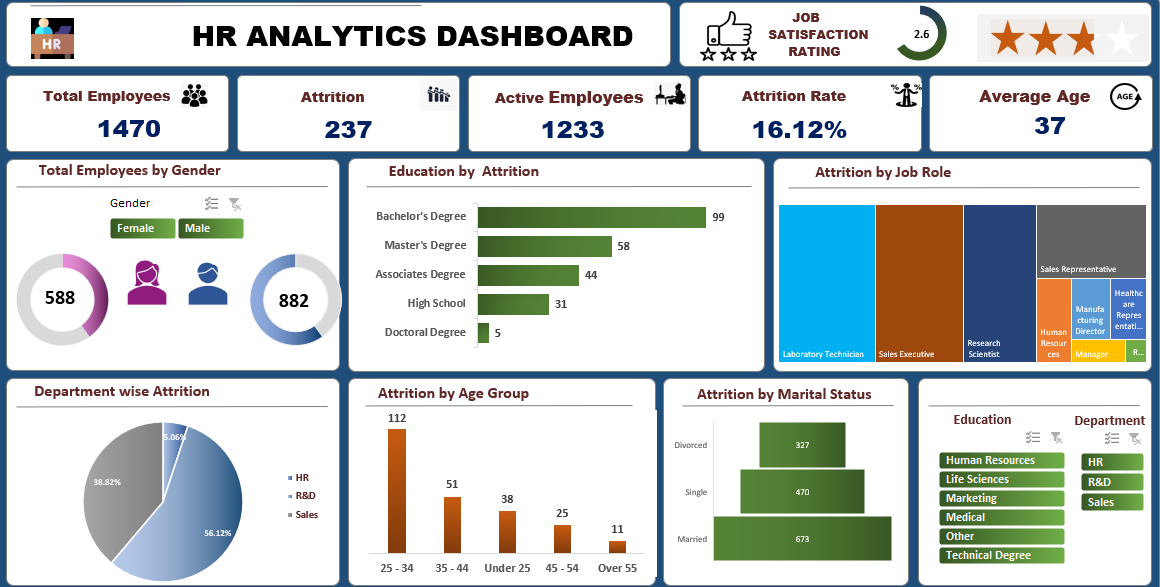

Layout of this report page (visuals, bound fields, positions):
{"tool":"powerbi","page":{"name":"Page 1","canvas":[1280,720],"ordinal":0},"visuals":[{"type":"card","title":"Overall Employees","fields":{"Values":["Sum(HR data.Employee Count)"]},"box":[17.8,53.5,240,110],"z":0},{"type":"card","title":"Atrrition","fields":{"Values":["Sum(HR data.AttritionCount)"]},"box":[269.2,53.5,240.1,109.8],"z":1000},{"type":"card","title":"Attrition Rate","fields":{"Values":["HR data.Attrition Rate"]},"box":[520.7,53.5,240.1,109.8],"z":2000},{"type":"card","title":"Active Employees","fields":{"Values":["HR data.Active Employees"]},"box":[772.2,53.5,240.1,109.8],"z":3000},{"type":"card","title":"Average Age","fields":{"Values":["Avg(HR data.Age)"]},"box":[1023.7,53.5,240.1,109.8],"z":4000},{"type":"pieChart","title":" Department wise Attrition","fields":{"Category":["HR data.Department"],"Y":["Sum(HR data.AttritionCount)"]},"box":[18.1,177.3,400,271],"z":5000},{"type":"columnChart","title":"No of Employee by Age Group","fields":{"Series":["HR data.Gender"],"Category":["HR data.CF_age band"],"Y":["Sum(HR data.Employee Count)"]},"box":[436.1,177.3,400,271],"z":6000},{"type":"pivotTable","title":" Job Satisfaction Rate","fields":{"Rows":["HR data.Job Role"],"Columns":["HR data.Job Satisfaction"],"Values":["Sum(HR data.Employee Count)"]},"box":[854.2,177.3,410.2,271.4],"z":7000},{"type":"barChart","title":" Education wise Attrition","fields":{"Y":["Sum(HR data.AttritionCount)"],"Category":["HR data.Education Field"]},"box":[18.1,458.4,293.2,244.9],"z":8000},{"type":"donutChart","title":" Under 25","fields":{"Category":["HR data.Gender"],"Y":["Sum(HR data.AttritionCount)"],"Series":["HR data.CF_age band"]},"box":[326.9,507.9,179.8,195.4],"z":9000},{"type":"textbox","box":[326.9,458.4,937.4,31.4],"z":10000},{"type":"donutChart","title":"25 - 34","fields":{"Category":["HR data.Gender"],"Y":["Sum(HR data.AttritionCount)"],"Series":["HR data.CF_age band"]},"box":[516.1,507.9,179.8,195.4],"z":11000},{"type":"donutChart","title":"35 - 44","fields":{"Category":["HR data.Gender"],"Y":["Sum(HR data.AttritionCount)"],"Series":["HR data.CF_age band"]},"box":[705.2,507.9,181,195.4],"z":12000},{"type":"donutChart","title":"45 - 55","fields":{"Category":["HR data.Gender"],"Y":["Sum(HR data.AttritionCount)"],"Series":["HR data.CF_age band"]},"box":[895.5,507.9,179.8,195.4],"z":13000},{"type":"donutChart","title":" Over 55","fields":{"Category":["HR data.Gender"],"Y":["Sum(HR data.AttritionCount)"],"Series":["HR data.CF_age band"]},"box":[1084.6,507.9,179.8,195.4],"z":14000},{"type":"textbox","box":[15.1,0,506.3,41.2],"z":15000},{"type":"card","fields":{"Values":["Sum(HR data.AttritionCount)"]},"box":[393.8,605.1,46.7,31.6],"z":16000},{"type":"card","fields":{"Values":["Sum(HR data.AttritionCount)"]},"box":[772.6,598.3,46.7,31.6],"z":17000},{"type":"card","fields":{"Values":["Sum(HR data.AttritionCount)"]},"box":[961.9,598.3,46.7,31.6],"z":18000},{"type":"card","fields":{"Values":["Sum(HR data.AttritionCount)"]},"box":[1151.3,598.3,46.7,31.6],"z":19000},{"type":"card","fields":{"Values":["Sum(HR data.AttritionCount)"]},"box":[577.7,595.5,57.6,37],"z":20000},{"type":"slicer","fields":{"Values":["HR data.Education"]},"box":[521.4,0,742.4,41.2],"z":21000}]}

Visuals, with their boxes on the page's 1280x720 design canvas (x1, y1, x2, y2). These are canvas units, not pixel positions in the 1160x587 screenshot, which may show the page scaled, cropped or inside an application window:
"Overall Employees" card: 18/54/258/164
"Atrrition" card: 269/54/509/163
"Attrition Rate" card: 521/54/761/163
"Active Employees" card: 772/54/1012/163
"Average Age" card: 1024/54/1264/163
" Department wise Attrition" pieChart: 18/177/418/448
"No of Employee by Age Group" columnChart: 436/177/836/448
" Job Satisfaction Rate" pivotTable: 854/177/1264/449
" Education wise Attrition" barChart: 18/458/311/703
" Under 25" donutChart: 327/508/507/703
textbox: 327/458/1264/490
"25 - 34" donutChart: 516/508/696/703
"35 - 44" donutChart: 705/508/886/703
"45 - 55" donutChart: 896/508/1075/703
" Over 55" donutChart: 1085/508/1264/703
textbox: 15/0/521/41
card - Sum(HR data.AttritionCount): 394/605/440/637
card - Sum(HR data.AttritionCount): 773/598/819/630
card - Sum(HR data.AttritionCount): 962/598/1009/630
card - Sum(HR data.AttritionCount): 1151/598/1198/630
card - Sum(HR data.AttritionCount): 578/596/635/632
slicer - HR data.Education: 521/0/1264/41
